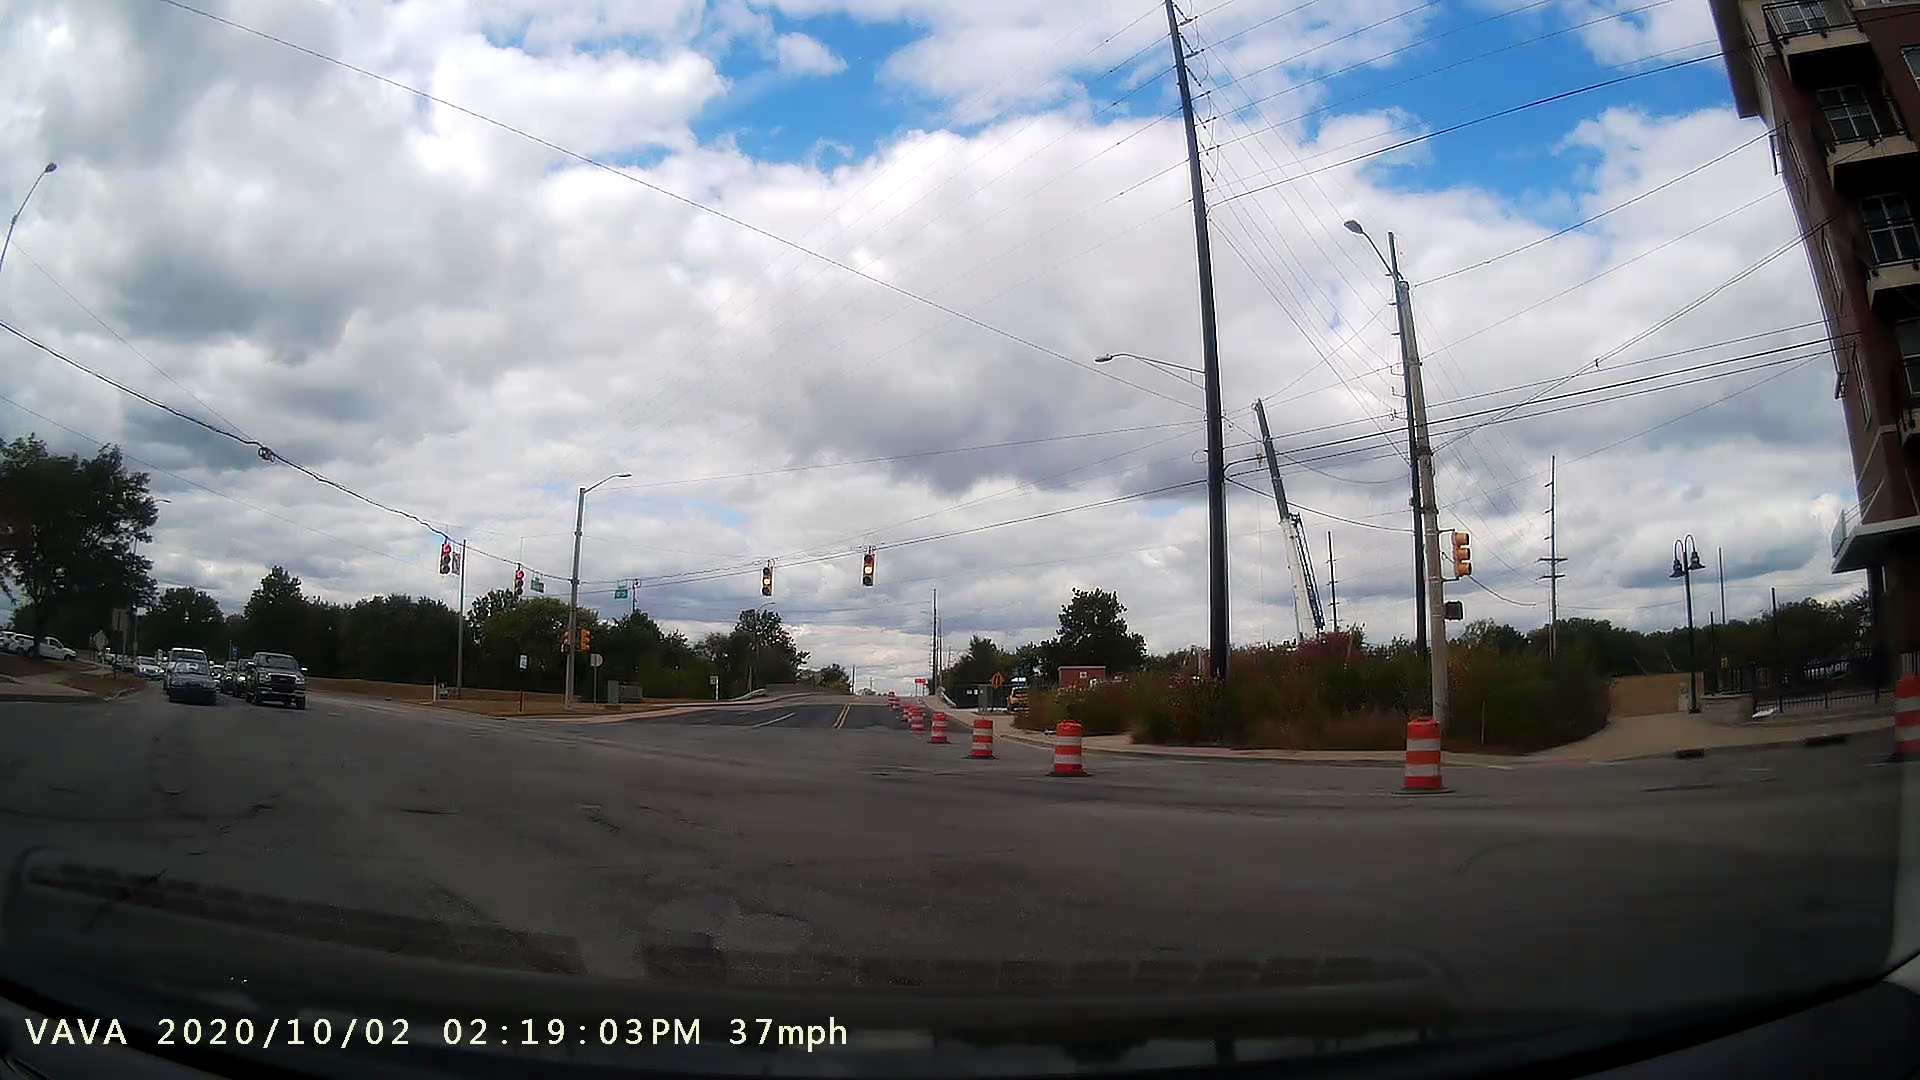const_barrel: (1389, 698, 1456, 806), (1042, 709, 1095, 790), (961, 709, 1004, 766), (920, 702, 957, 753)
